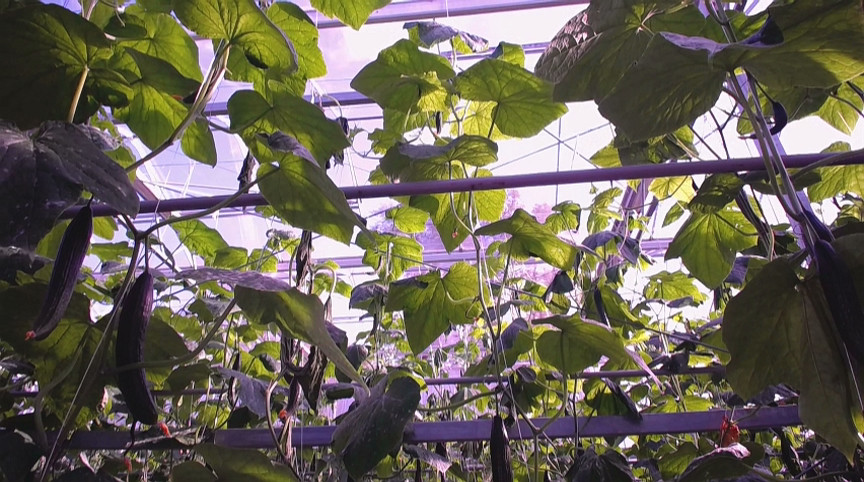cucumber: (31, 208, 92, 343), (118, 271, 158, 425), (489, 416, 514, 481)
